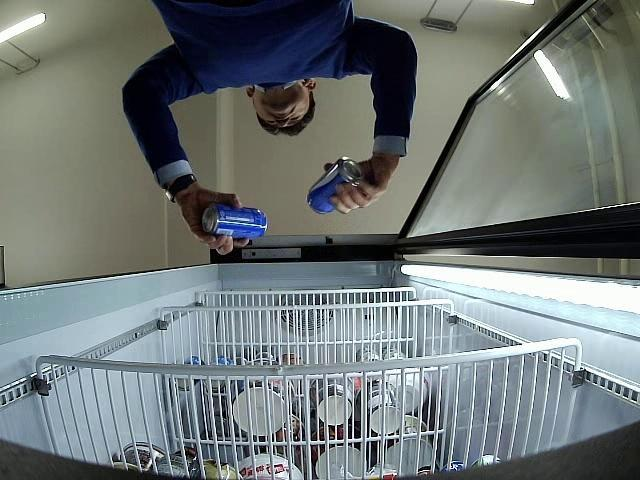13_pocariSweat: (307, 156, 363, 214), (202, 205, 268, 240)
